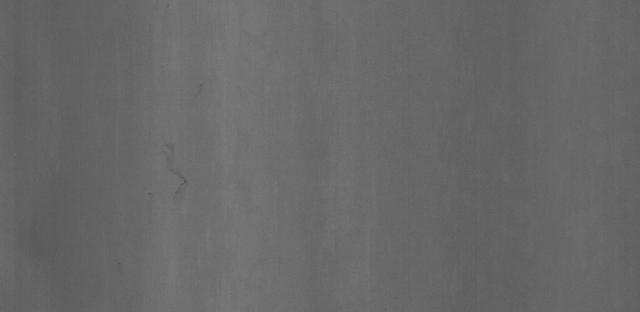water_spot: (152, 132, 201, 209)
